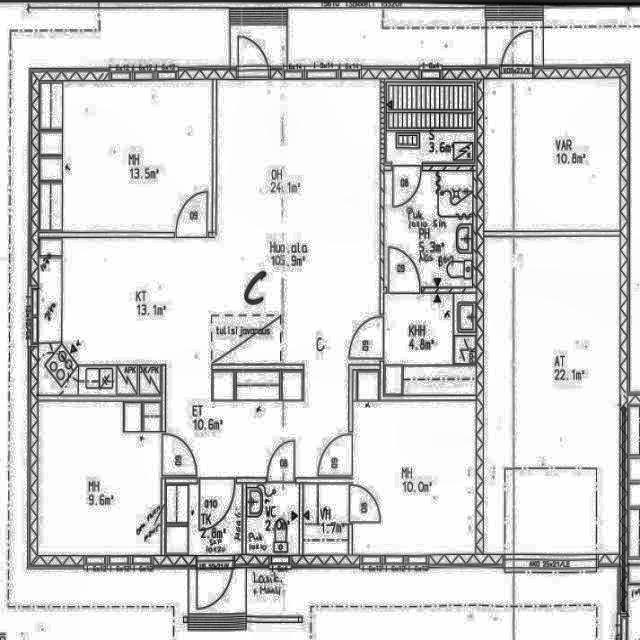room: (40, 81, 212, 233), (352, 370, 476, 554), (483, 79, 620, 231), (38, 400, 161, 555), (384, 171, 472, 287), (384, 294, 476, 364), (165, 484, 243, 554), (247, 484, 299, 555), (303, 484, 350, 555)
